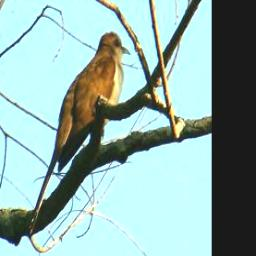Cuckoo: (55, 30, 130, 175)
